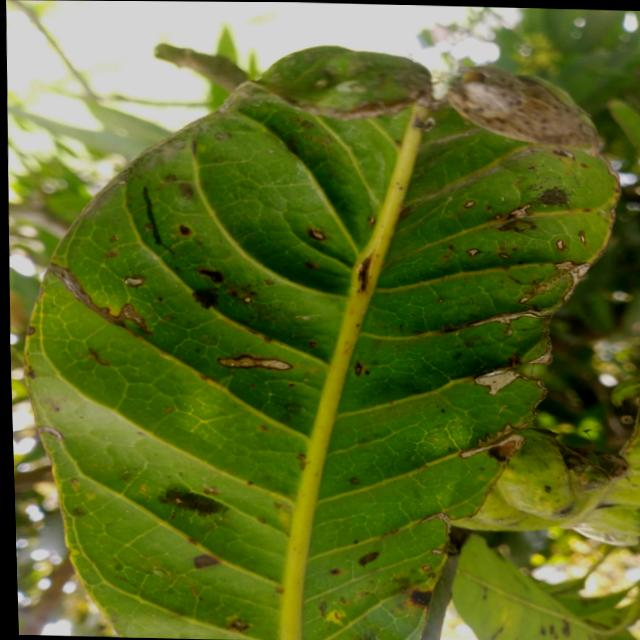Anthracnose: (452, 182, 584, 275), (159, 260, 276, 325), (142, 486, 260, 536), (311, 538, 403, 598)
Bacterial Cancer: (460, 87, 590, 150)
